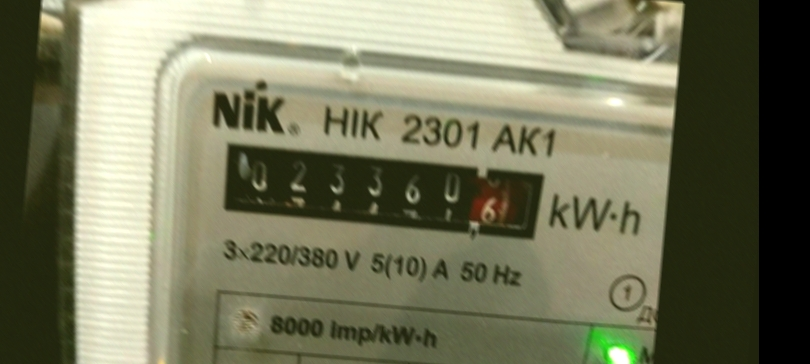0: (437, 167, 462, 204), (245, 155, 270, 191)
2: (285, 156, 309, 193)
3: (323, 160, 346, 196), (362, 162, 383, 197)
6: (399, 168, 422, 204), (476, 190, 496, 224)
screen: (204, 128, 562, 258)
